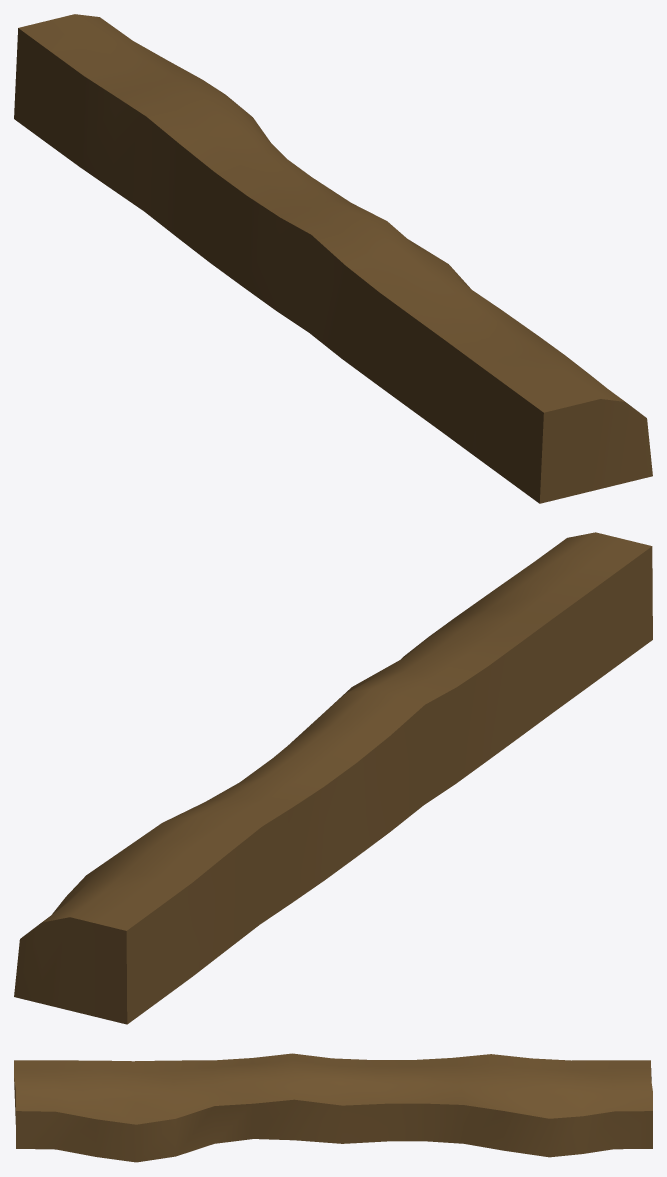
File: CostadoTierra 1.fbx
3 renders of one model, top to bottom at view 1: azimuth 30°, elevation 25°; view 2: azimuth 150°, elevation 25°; view 3: azimuth 270°, elevation 25°, orthographic. The views are drawn at different scales.
Parts seen in each view (by area): view 1: Costado; view 2: Costado; view 3: Costado.
Boxes of the visible parts, x1=… form: Costado: x1=14, y1=14, x2=652, y2=503; Costado: x1=14, y1=532, x2=652, y2=1024; Costado: x1=14, y1=1053, x2=652, y2=1162.
Size of the model in its own units: 828 by 703 by 5647.
